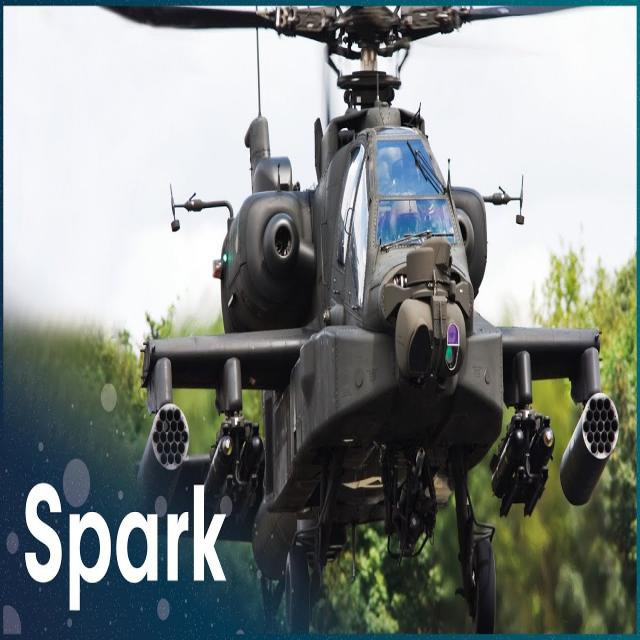Apache: (84, 1, 618, 640)
